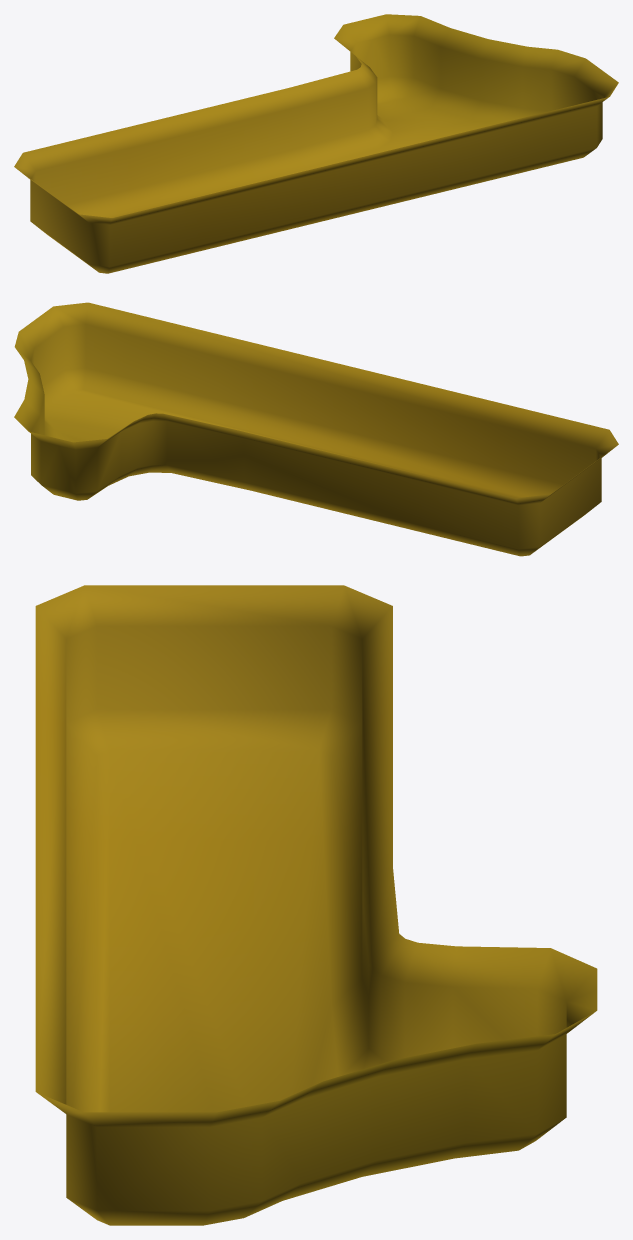
Rendered from original-180.obj.
3 renders of one model, top to bottom at view 1: azimuth 30°, elevation 25°; view 2: azimuth 150°, elevation 25°; view 3: azimuth 270°, elevation 25°, orthographic. The views are drawn at different scales.
Parts seen in each view (by area): view 1: #ID1209; view 2: #ID1209; view 3: #ID1209.
Boxes of the visible parts, box(x1,y1,x2,y2) form: #ID1209: box(14, 14, 618, 273); #ID1209: box(14, 302, 618, 556); #ID1209: box(35, 585, 597, 1225).
Bounding box in the file's own units: 0.0196 × 0.00241 × 0.00884.
1 material, 1 textured.
